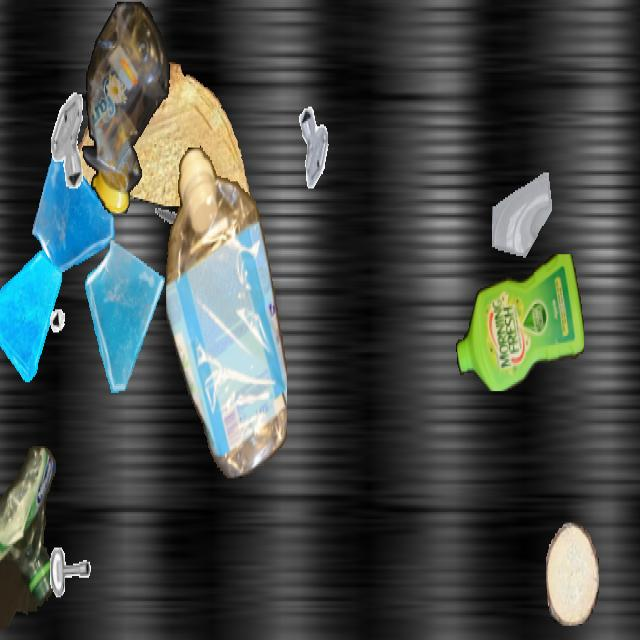glass: (79, 236, 171, 400), (31, 135, 119, 292), (0, 244, 62, 382), (492, 171, 554, 281)
metal: (37, 89, 95, 192), (44, 539, 100, 638), (292, 101, 340, 187), (150, 185, 194, 263), (47, 277, 85, 345)
plastic: (166, 144, 286, 478), (81, 2, 171, 212), (456, 255, 584, 390), (0, 443, 57, 638)
wood: (75, 62, 261, 204), (546, 522, 598, 626)
